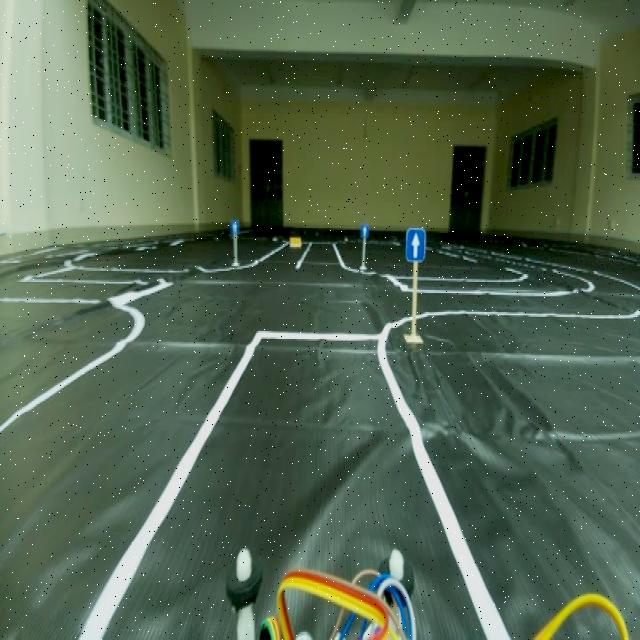onewayroad: (404, 223, 425, 263), (359, 220, 368, 236), (231, 215, 239, 232)
roadblock: (288, 236, 306, 255)
